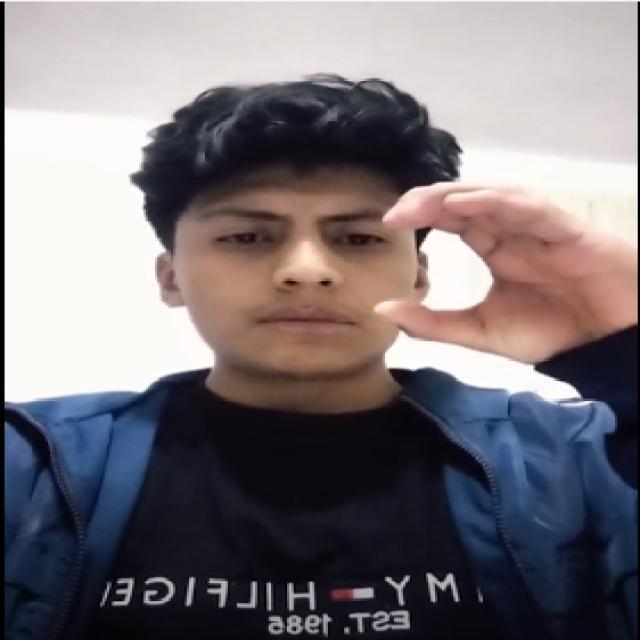C: (344, 155, 638, 383)
